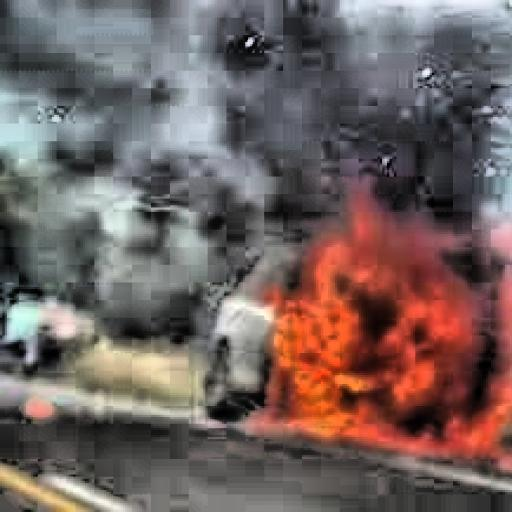fire: (257, 203, 507, 450)
